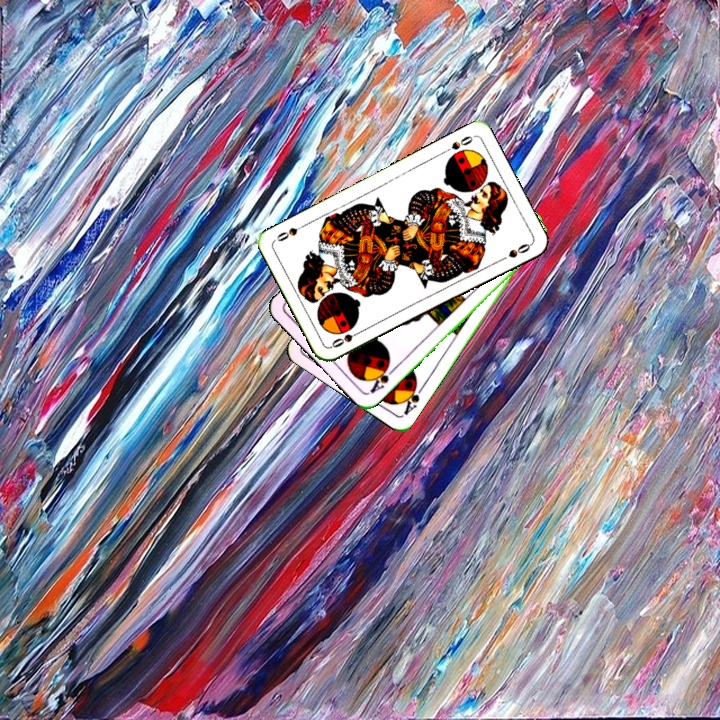SA: (397, 378, 427, 418), (365, 361, 398, 396)
SO: (328, 326, 365, 350), (439, 132, 475, 156)
